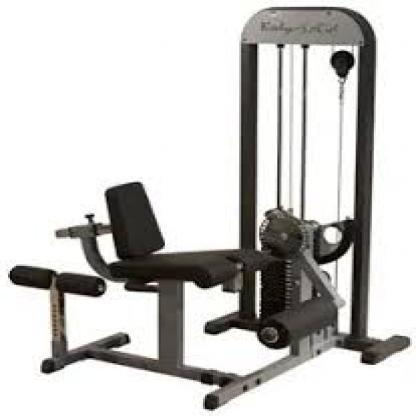leg extension: (6, 1, 416, 416)
